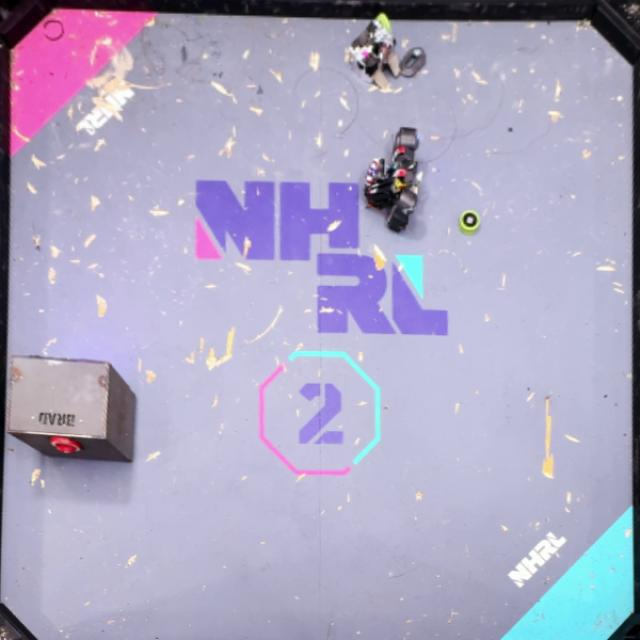housebot: (7, 355, 138, 466)
robot: (364, 128, 422, 234), (343, 10, 401, 91)
